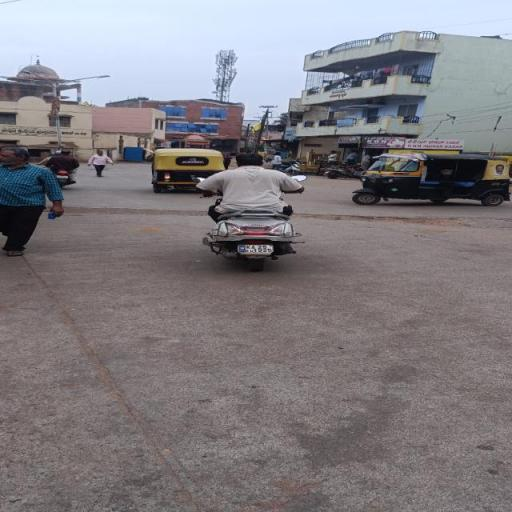bike: (190, 150, 311, 273)
numberplate: (238, 245, 274, 254)
withouthelmet: (237, 154, 264, 166)
